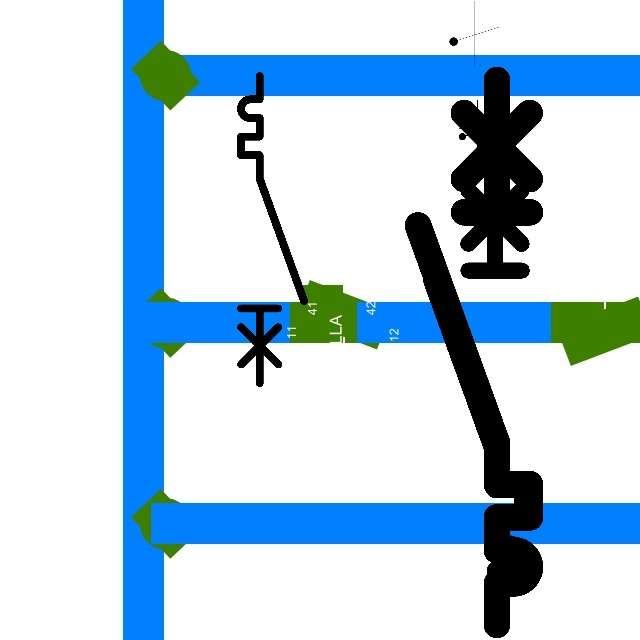interruptor_termomagnetico: (404, 65, 544, 638), (420, 152, 533, 614), (233, 68, 312, 391)
